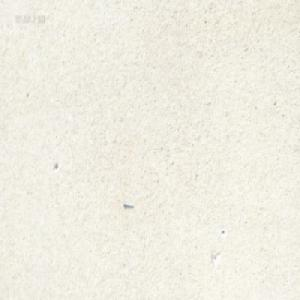Nail: (123, 201, 134, 209)
